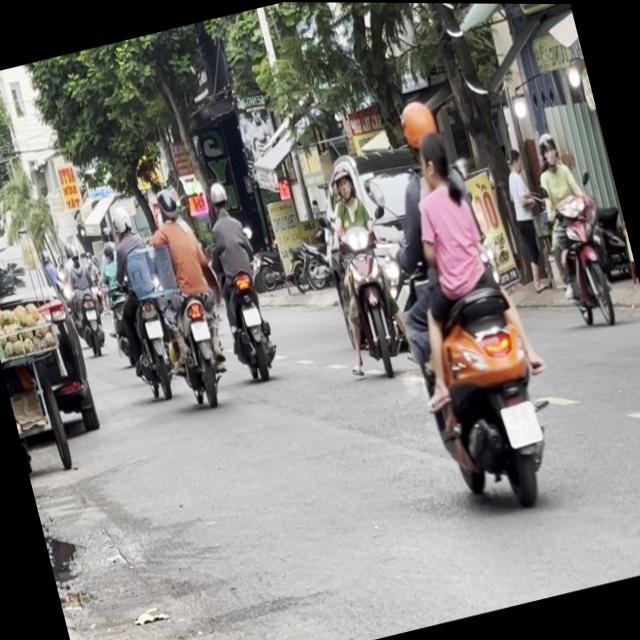helmet: (396, 95, 444, 156), (326, 152, 359, 203), (154, 183, 182, 224), (536, 127, 563, 167), (207, 179, 232, 214), (110, 203, 135, 236), (146, 187, 166, 224)
licenseplate: (349, 75, 576, 526), (301, 147, 422, 385), (133, 177, 242, 408), (522, 120, 626, 333), (192, 174, 286, 384), (94, 198, 188, 405)
motorcyclist: (416, 127, 456, 189)
nohelmet: (502, 398, 542, 445), (190, 318, 210, 341), (144, 318, 164, 339), (243, 304, 262, 326)
